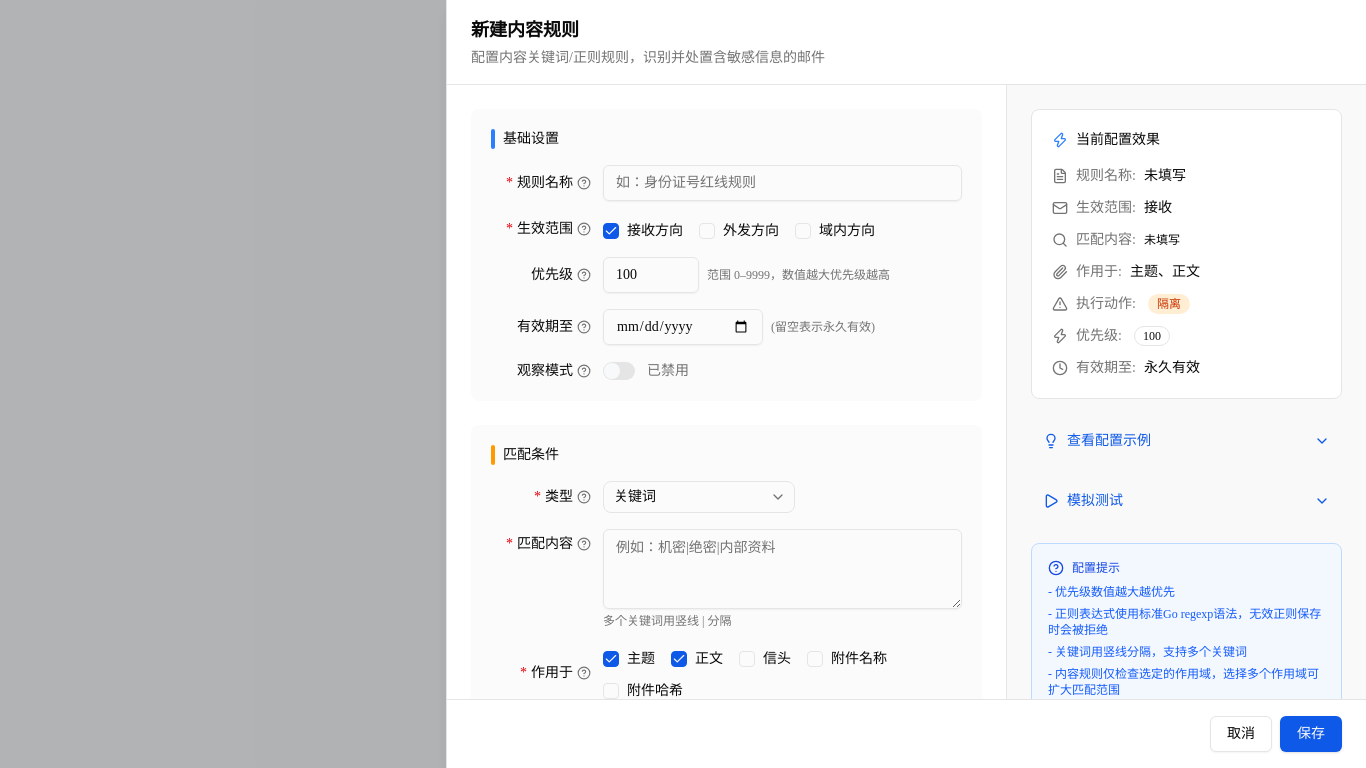
Test: 内容规则抽屉：正则判定权归后端 › 保存被后端判为非法正则时，把后端原因贴回匹配内容字段旁
The width and height of the screenshot is (1366, 768).
Type "regex-rule" into the field with test id "content-rule-name" at (782, 183), box [603,165,962,201]
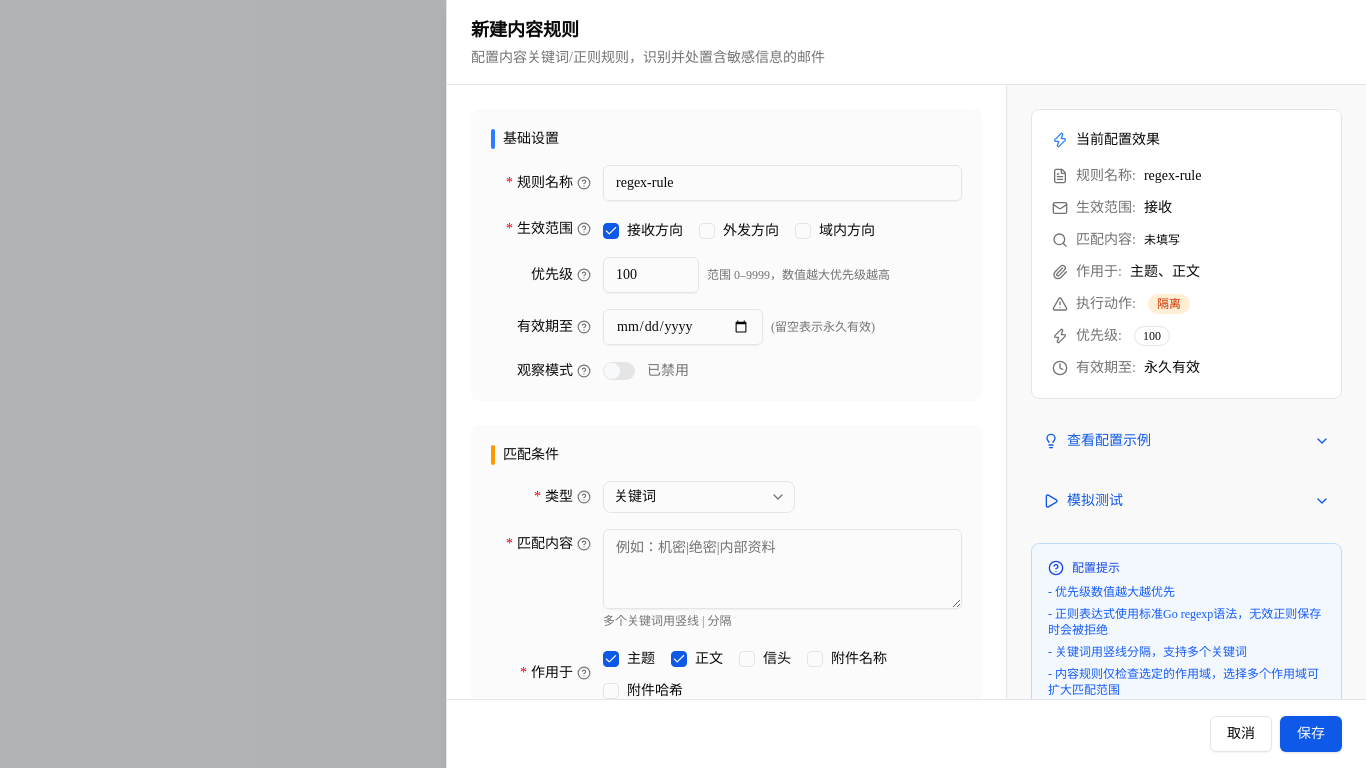
Type "(?=a)b" into the text box with test id "content-rule-match-content" at (782, 569), box [603,529,962,609]
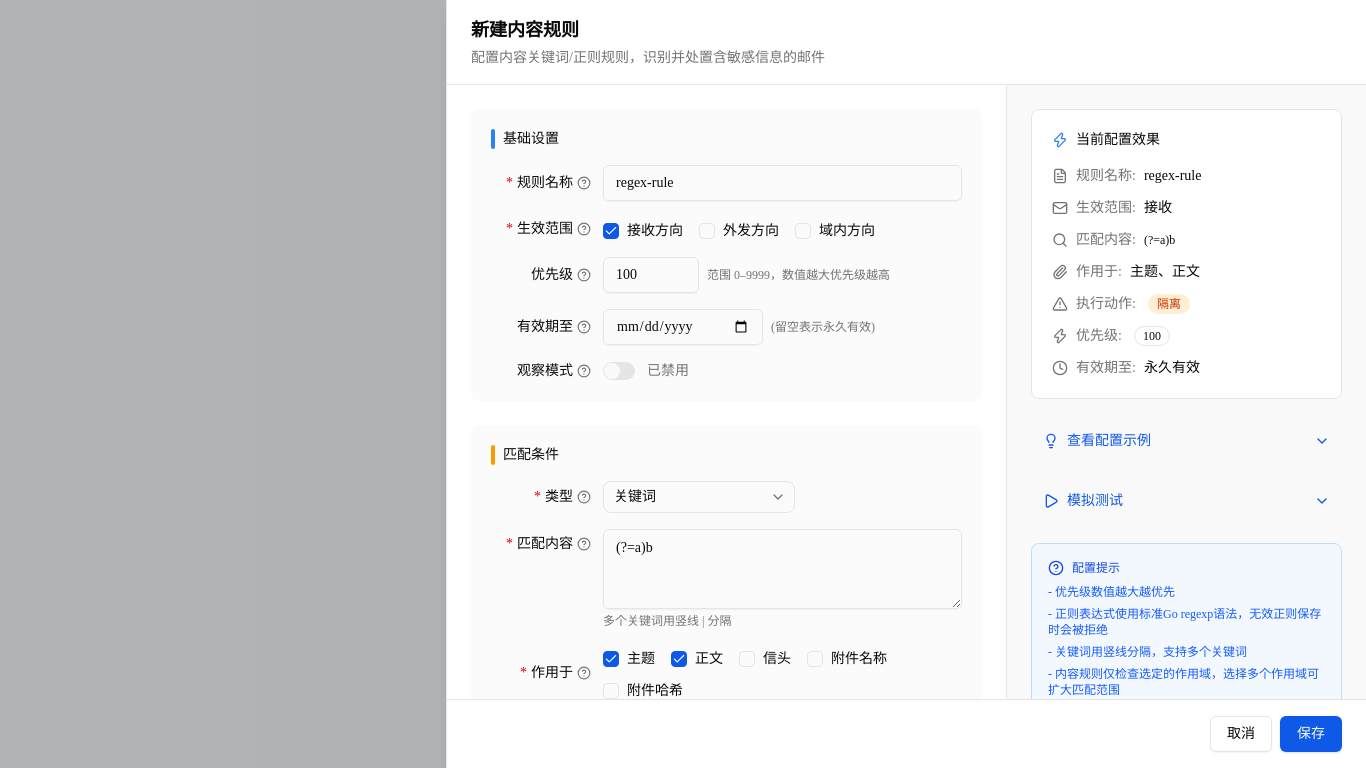
Click the button with test id "content-rule-save" at (1311, 734), box [1280,716,1342,752]
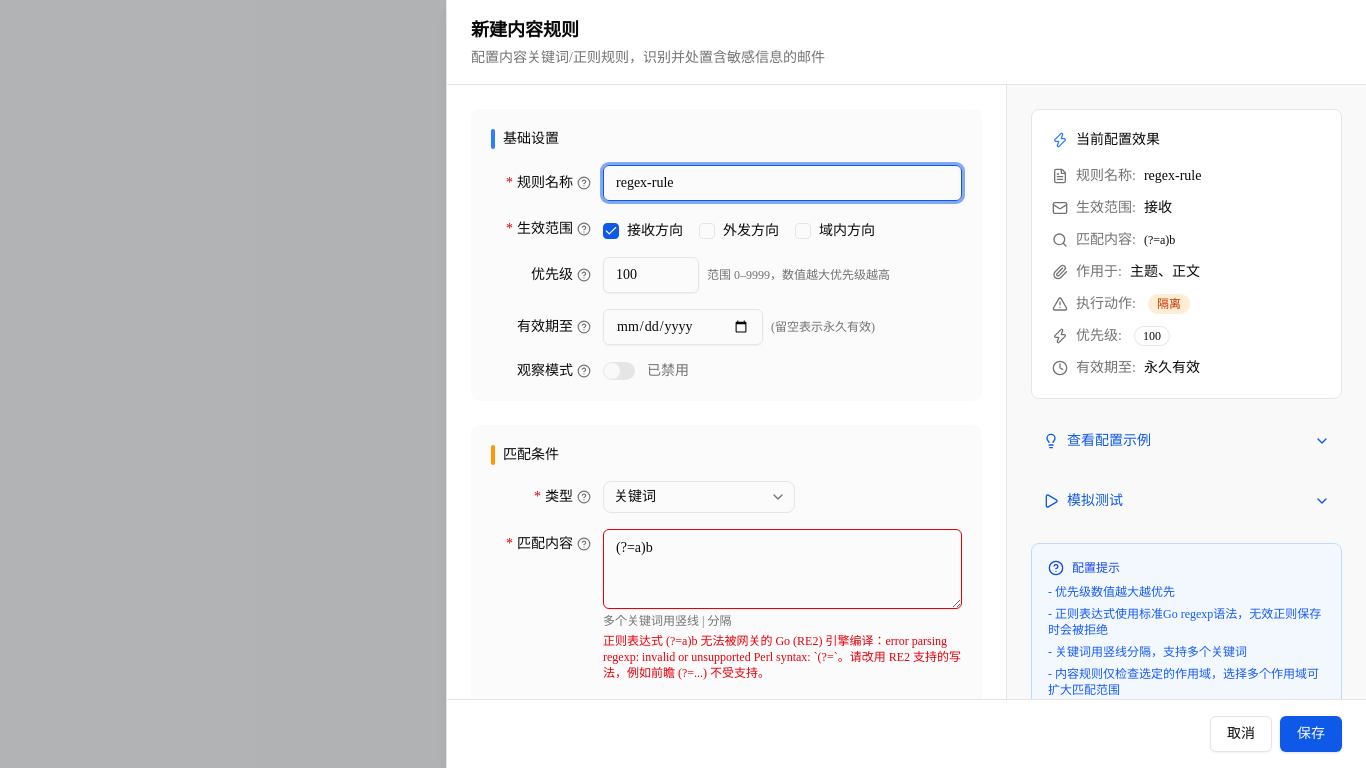
Expected: the text "unsupported Perl syntax" shows "(?=a)b", [603,634,961,680]
